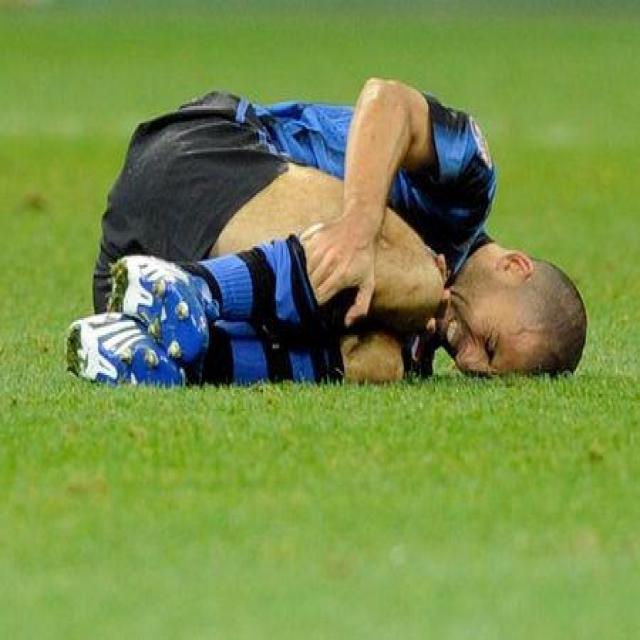Fall: (69, 73, 594, 388)
